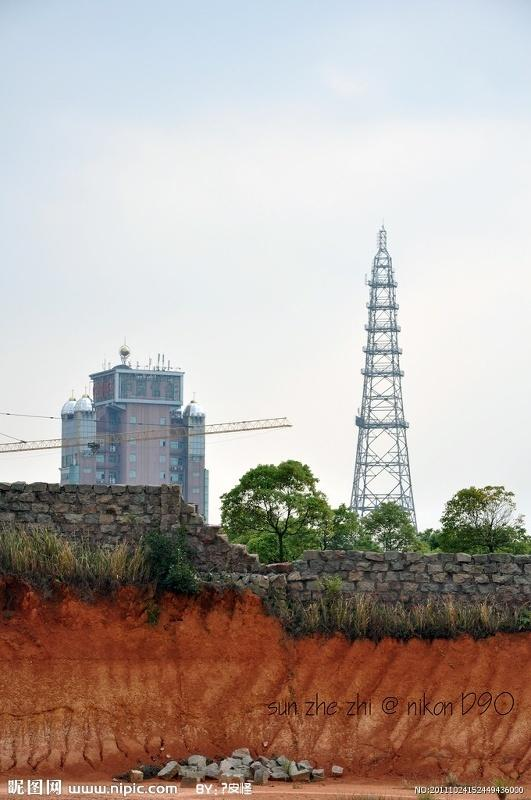power_tower: (350, 220, 424, 540)
